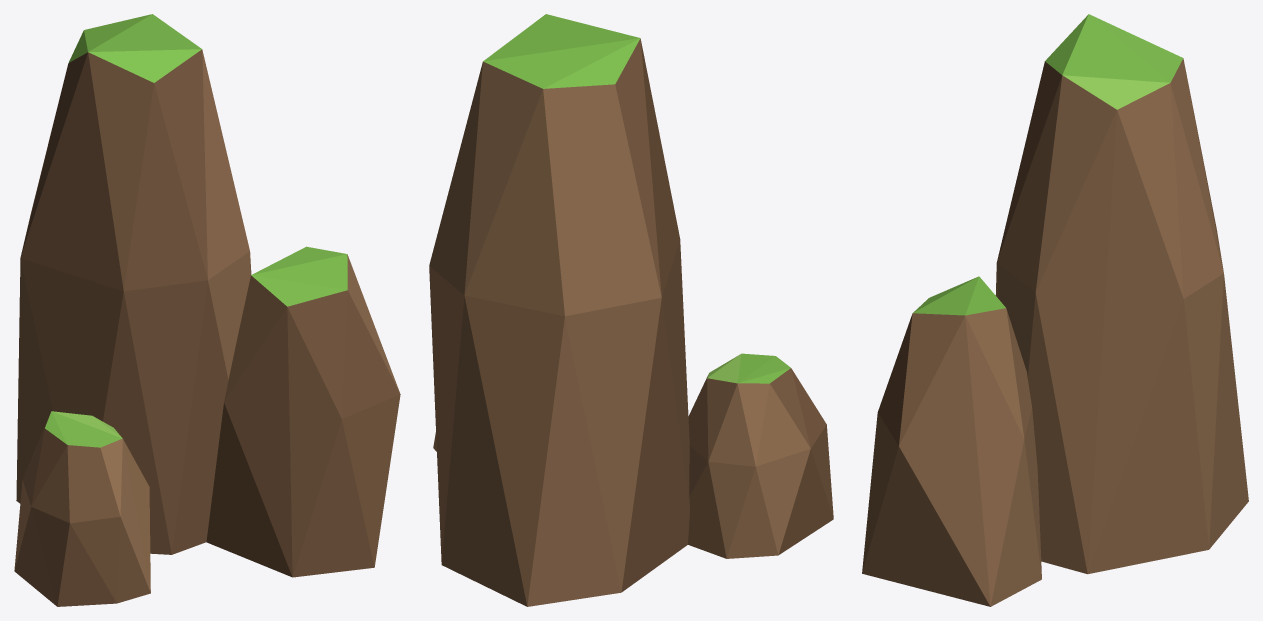
Rendered from rock_tallB.glb.
The picture shows the model from 3 angles, left to right: view 1: azimuth 30°, elevation 25°; view 2: azimuth 150°, elevation 25°; view 3: azimuth 270°, elevation 25°; orthographic projection. The views are drawn at different scales.
Visible parts, largest first — view 1: rock_tallB; view 2: rock_tallB; view 3: rock_tallB.
Boxes of the visible parts, x1=… form: rock_tallB: x1=14, y1=14, x2=400, y2=606; rock_tallB: x1=429, y1=14, x2=833, y2=606; rock_tallB: x1=862, y1=14, x2=1248, y2=606.
Size of the model in its own units: 0.6732 by 0.8762 by 0.6467.
1 material, 1 textured.
